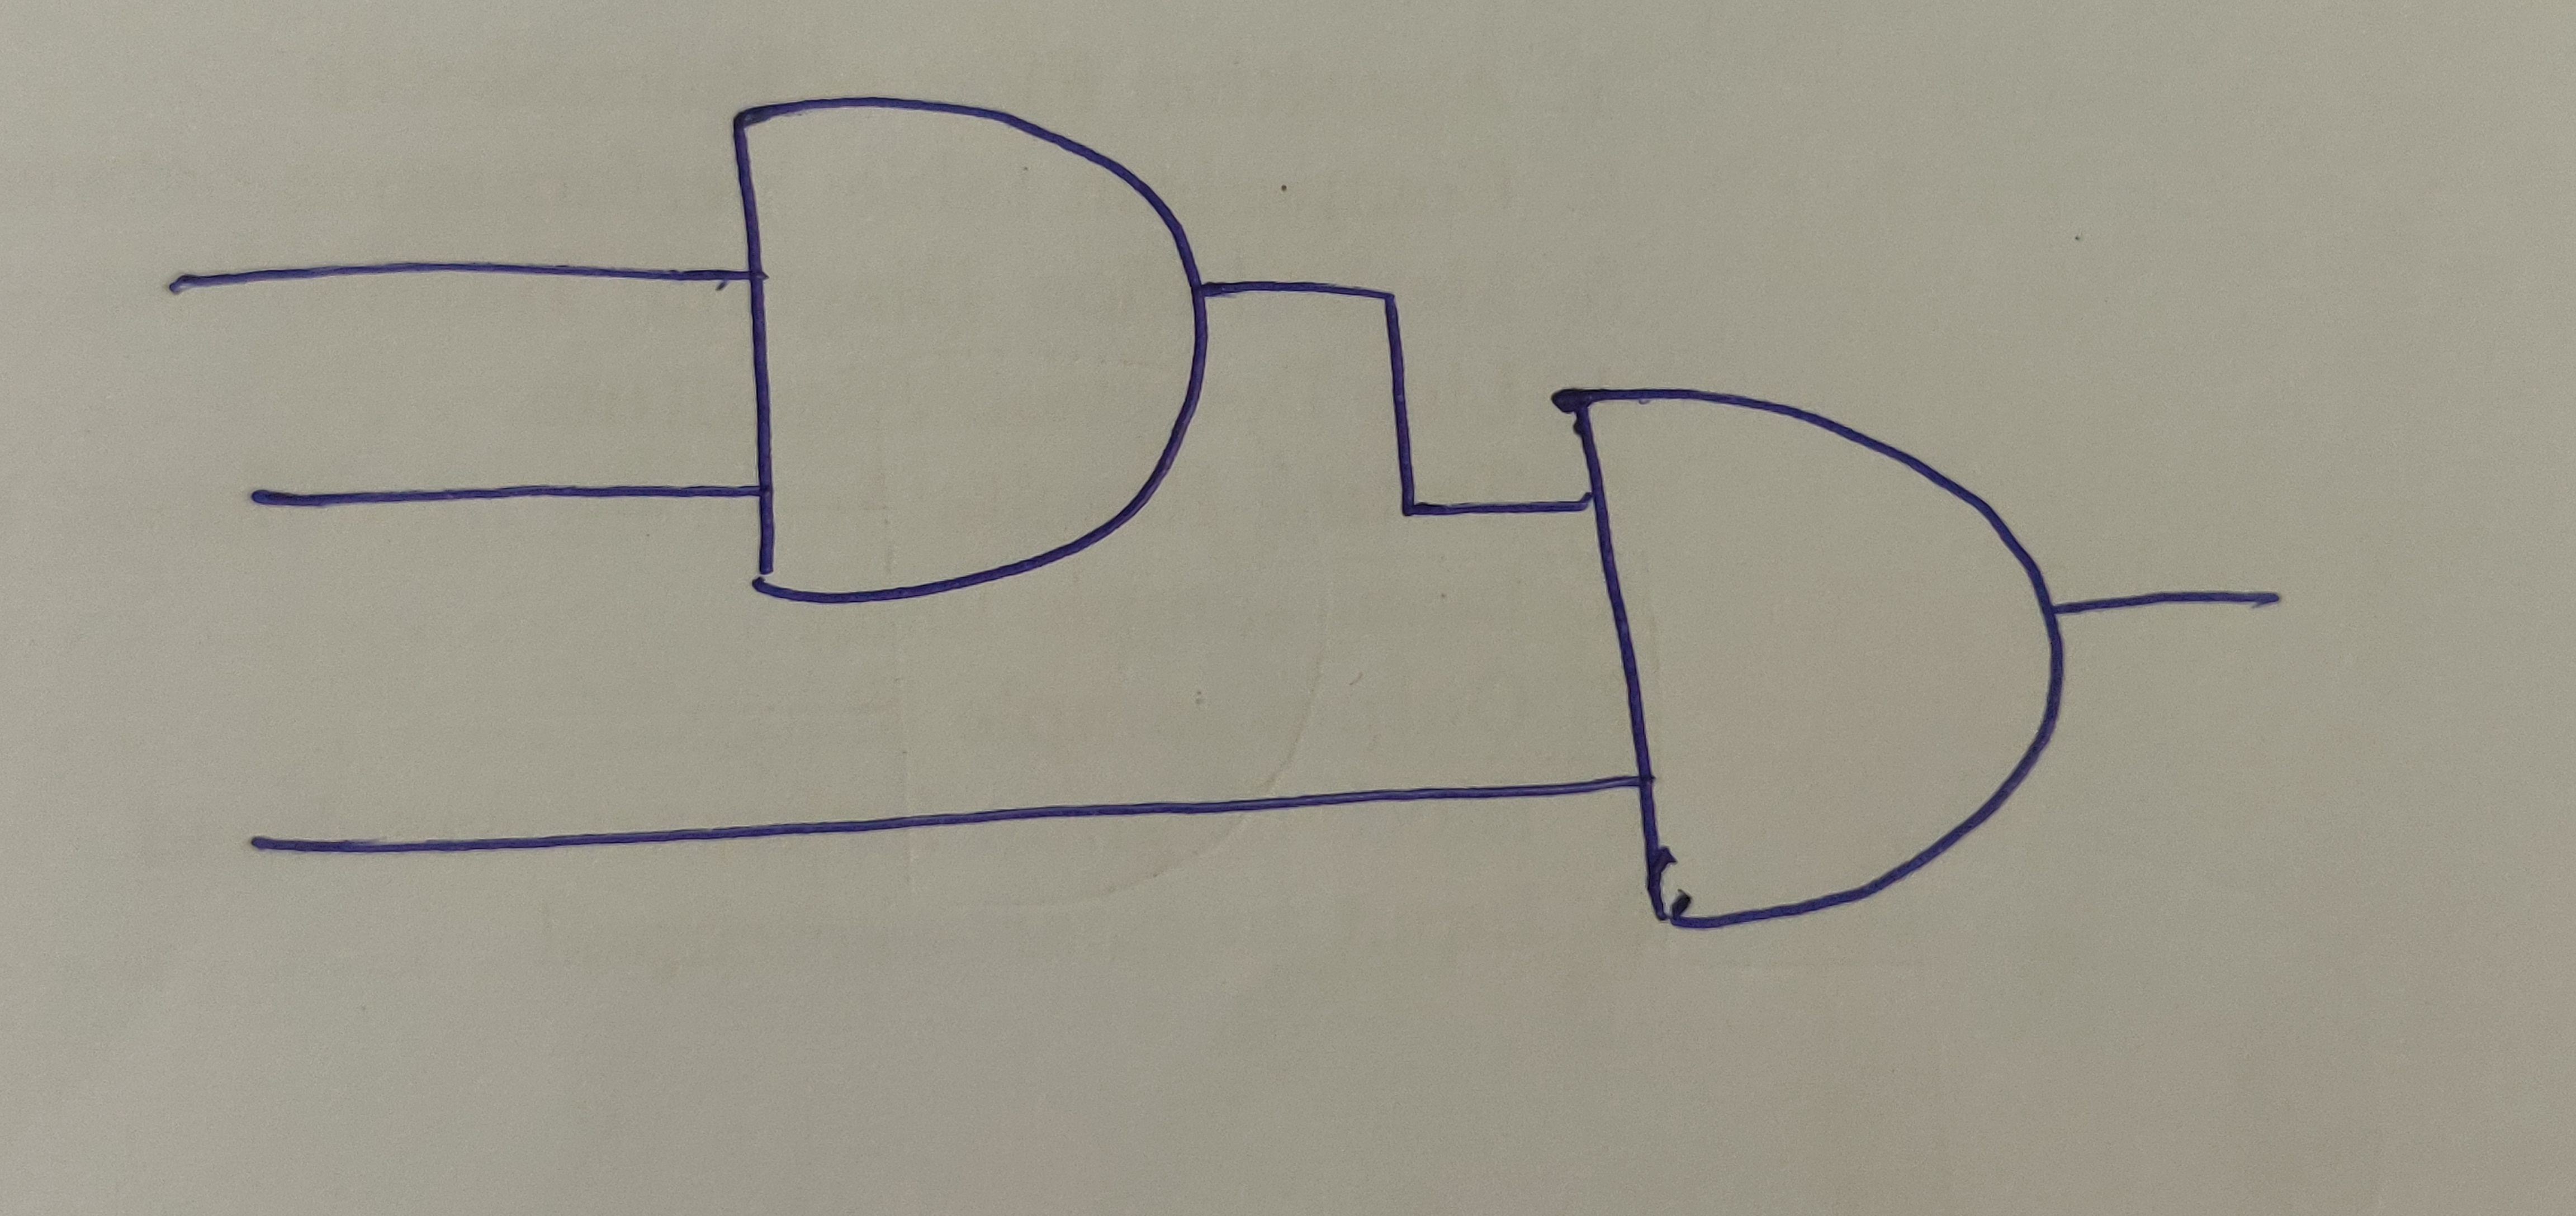and: (1562, 376, 2068, 932), (726, 90, 1212, 606)
